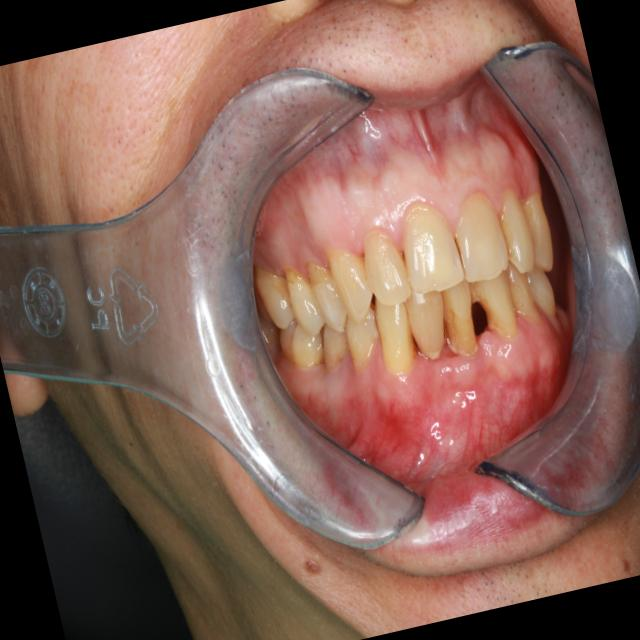tooth: (389, 187, 472, 301), (439, 179, 516, 286), (361, 279, 428, 387), (349, 217, 420, 314), (318, 234, 385, 332), (397, 273, 459, 370), (465, 260, 529, 349), (240, 248, 302, 339), (432, 273, 490, 363), (276, 251, 331, 342), (270, 301, 334, 379), (300, 248, 353, 341), (512, 181, 563, 277), (492, 183, 542, 279), (337, 294, 393, 378), (499, 252, 550, 337), (311, 306, 360, 377), (517, 255, 562, 327), (248, 303, 287, 368)
